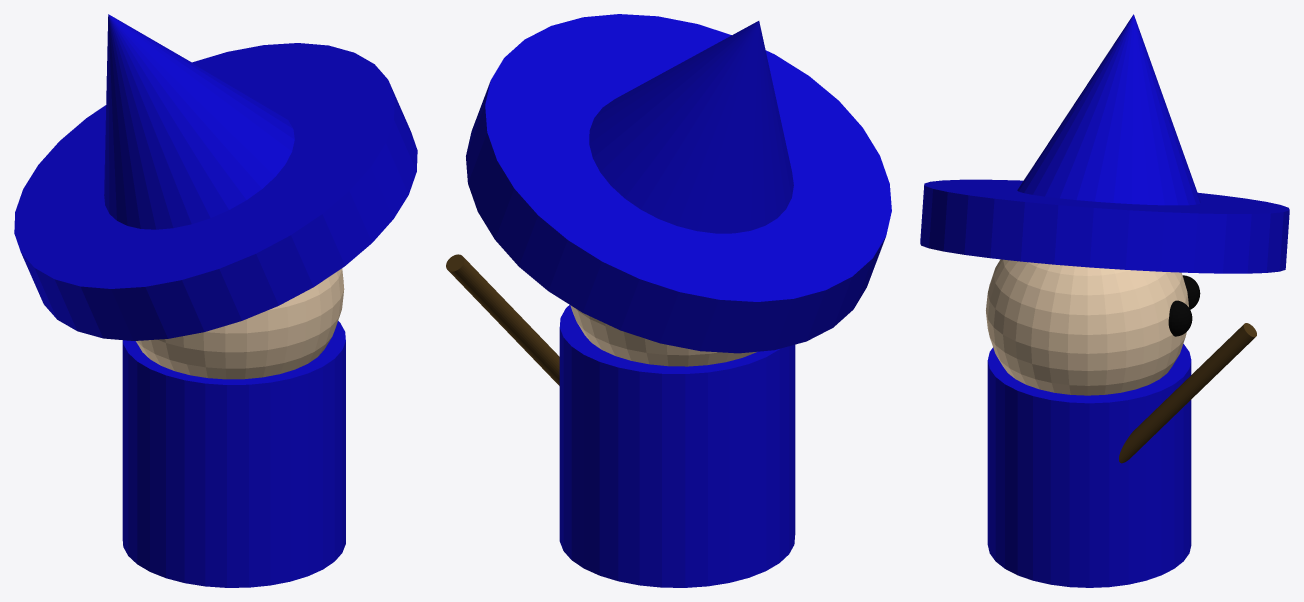
Rendered from wizord_blu.glb.
3 views of the same model, side by side, from view 1: azimuth 30°, elevation 25°; view 2: azimuth 150°, elevation 25°; view 3: azimuth 270°, elevation 25° (orthographic). The views are drawn at different scales.
Parts seen in each view (by area): view 1: Cylinder.001, Cylinder, Cone, Sphere; view 2: Cylinder.001, Cylinder, Cone, Sphere, Cylinder.002; view 3: Cylinder, Cylinder.001, Sphere, Cone, Cylinder.002, Sphere.002.
Part boxes in pixels (left/top/right/bottom): Cylinder.001: left=14, top=43, right=417, bottom=340; Cylinder: left=122, top=321, right=345, bottom=587; Cone: left=104, top=14, right=294, bottom=229; Sphere: left=136, top=268, right=344, bottom=379; Cylinder.001: left=466, top=14, right=891, bottom=353; Cylinder: left=559, top=305, right=795, bottom=587; Cone: left=589, top=21, right=793, bottom=233; Sphere: left=570, top=305, right=756, bottom=366; Cylinder.002: left=446, top=254, right=559, bottom=385; Cylinder: left=987, top=344, right=1191, bottom=587; Cylinder.001: left=920, top=179, right=1289, bottom=273; Sphere: left=986, top=259, right=1188, bottom=395; Cone: left=1017, top=14, right=1200, bottom=205; Cylinder.002: left=1119, top=323, right=1256, bottom=463; Sphere.002: left=1168, top=300, right=1192, bottom=336.
Size of the model in its own units: 3.57 by 5.26 by 3.63.
